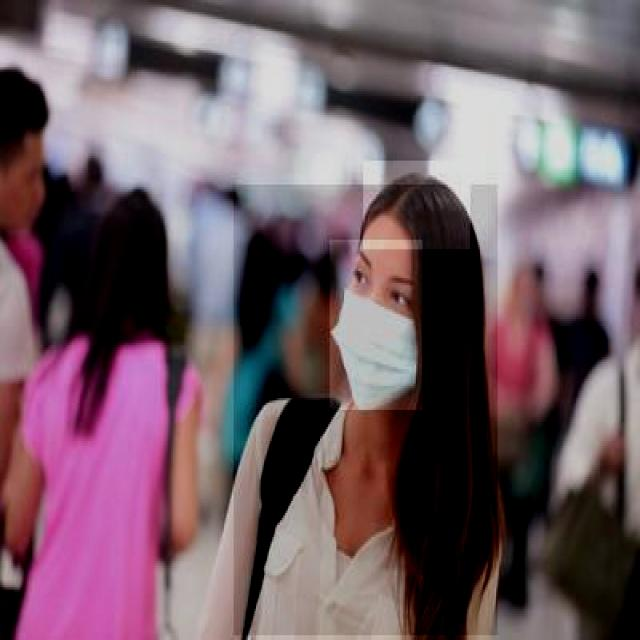face_mask: (330, 240, 422, 410)
head_nohelmet: (362, 160, 471, 252), (101, 176, 174, 267)
person: (232, 185, 498, 638), (27, 182, 218, 638)
